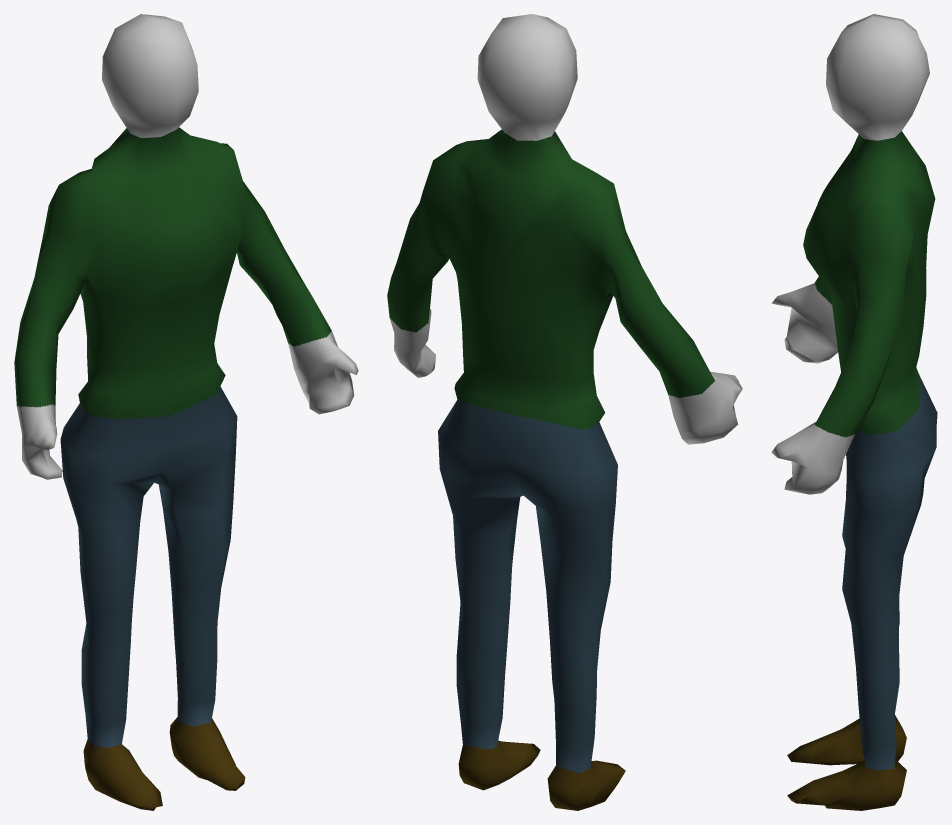
Rendered from PartyMensch456.fbx.
3 renders of one model, left to right at view 1: azimuth 30°, elevation 25°; view 2: azimuth 150°, elevation 25°; view 3: azimuth 270°, elevation 25°, orthographic. The views are drawn at different scales.
Visible parts, largest first — view 1: PartyMensch456; view 2: PartyMensch456; view 3: PartyMensch456.
Boxes of the visible parts, bbox=[...] form: PartyMensch456: bbox=[14, 14, 358, 810]; PartyMensch456: bbox=[387, 14, 742, 810]; PartyMensch456: bbox=[771, 14, 937, 810].
Size of the model in its own units: 81.87 by 181 by 35.72.
